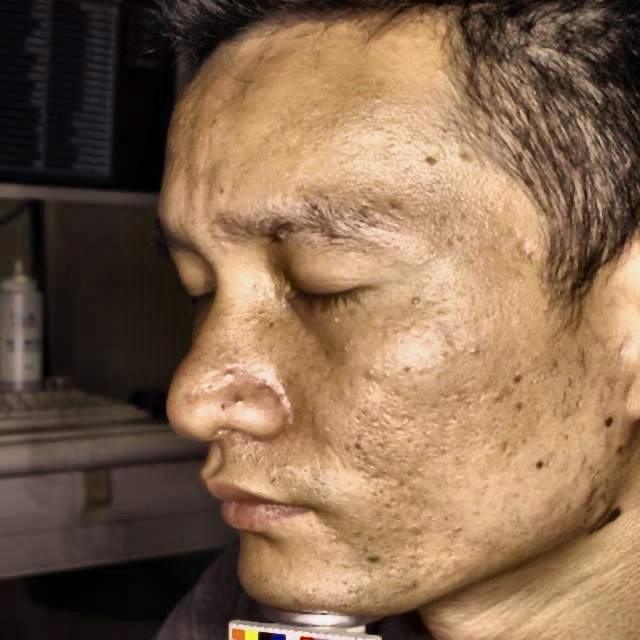comedone: (578, 484, 607, 504), (596, 500, 615, 524)
